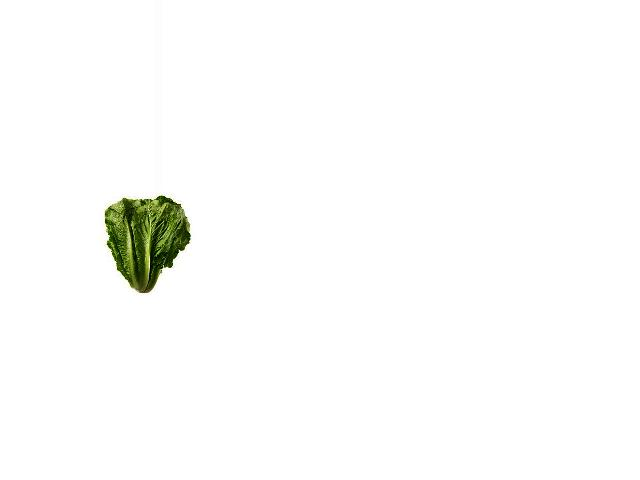lettuce: (108, 194, 193, 298)
